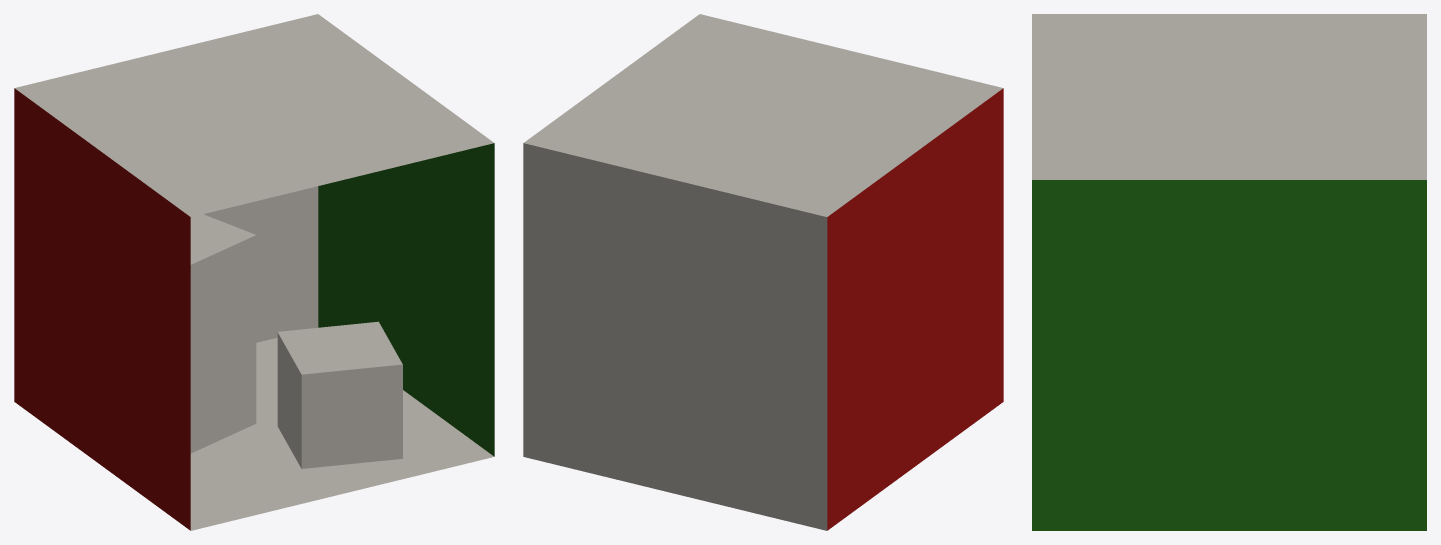
The model's file is CBbright.gltf.
The picture shows the model from 3 angles, left to right: view 1: azimuth 30°, elevation 25°; view 2: azimuth 150°, elevation 25°; view 3: azimuth 270°, elevation 25°; orthographic projection. The views are drawn at different scales.
Visible parts, largest first — view 1: Left Wall, Ceiling, Right Wall, Floor, Short Block, Tall Block, Back Wall; view 2: Back Wall, Left Wall, Ceiling; view 3: Right Wall, Ceiling.
Boxes of the visible parts, x1,y1,x2,y2 form: Left Wall: (14, 88, 190, 530); Ceiling: (14, 14, 493, 216); Right Wall: (318, 143, 494, 456); Floor: (190, 337, 494, 530); Short Block: (277, 321, 402, 468); Tall Block: (190, 214, 256, 453); Back Wall: (203, 186, 318, 342); Back Wall: (523, 143, 827, 530); Left Wall: (827, 88, 1003, 530); Ceiling: (524, 14, 1003, 216); Right Wall: (1032, 180, 1426, 530); Ceiling: (1032, 14, 1426, 179).
Size of the model in its own units: 5.56 by 5.49 by 5.59.
